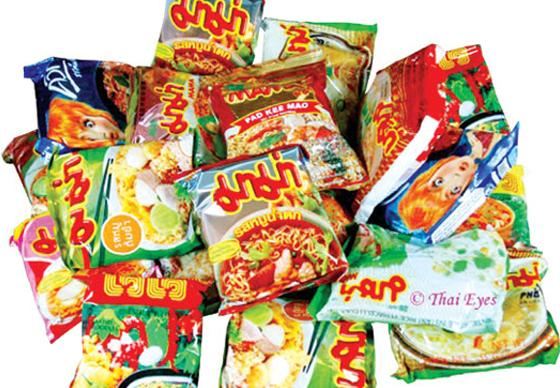plastic: (171, 142, 351, 318), (312, 212, 509, 345), (42, 139, 211, 276), (67, 261, 213, 388), (21, 45, 142, 146)
